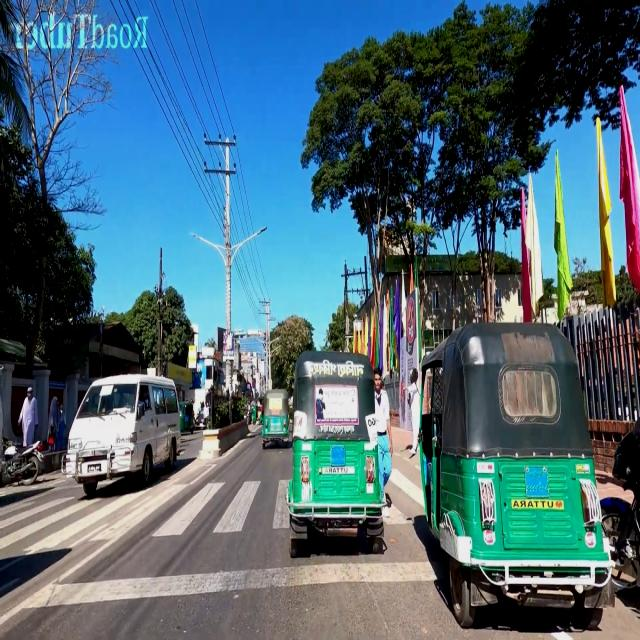white: (59, 371, 182, 491)
